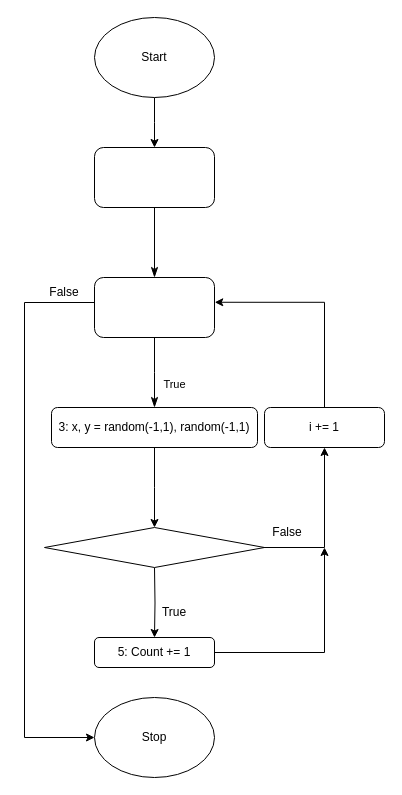
Some shapes in this 402 by 795 pixel diagram are drawn without their labels. The shapes that lost their labels are listed below. From the top down, each one's box as (x1, y1, x2, y2) in pixels, then its label:
(94, 146, 214, 208): 1: Count = 0
(94, 276, 214, 338): 2: for i in range(n)
(44, 526, 264, 568): 4: x^2 + y^2 <= 1
